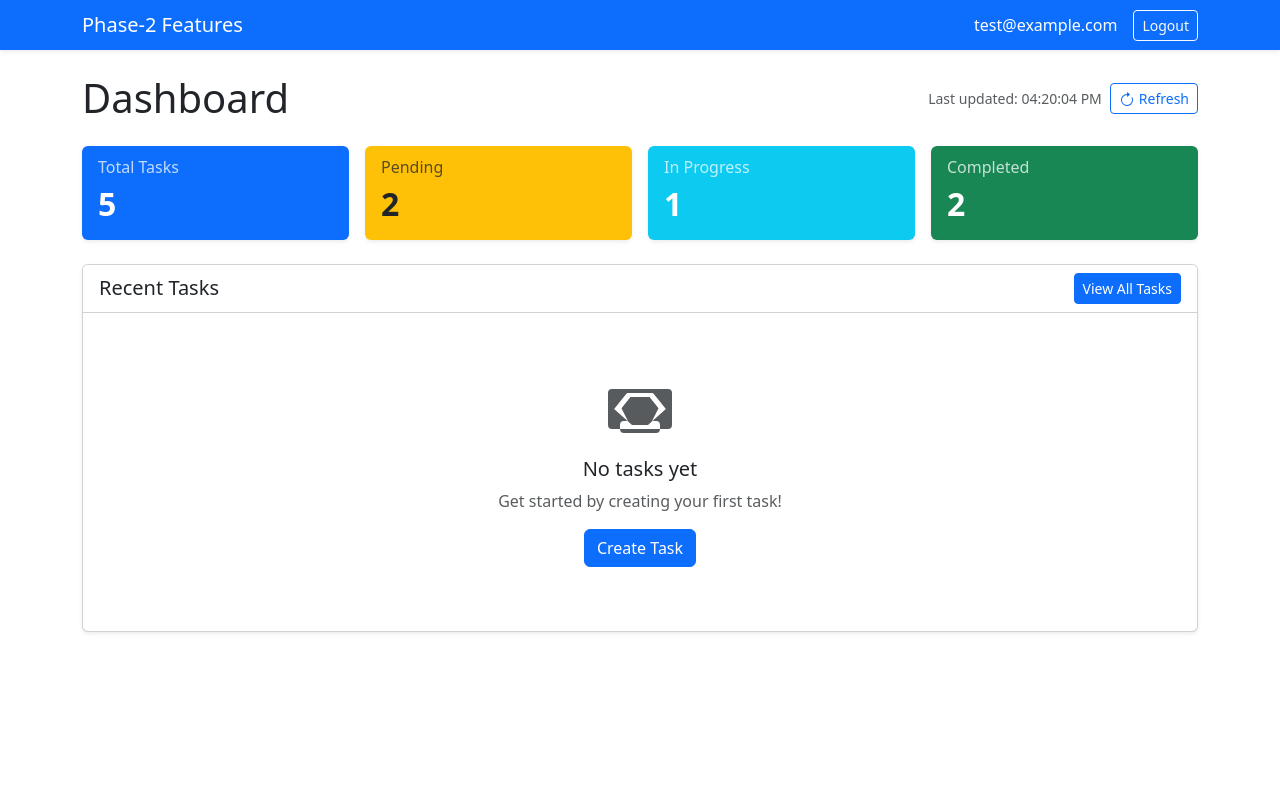
Test: DashboardPage › test_refresh_button - Shows refresh button and works correctly
The image size is (1280, 800).
Expected: the heading "Total Tasks" is shown, [98,158,179,177]
Note: Click refresh button
Click the button with test id "refresh-button" at (1154, 98), box [1110,82,1198,114]
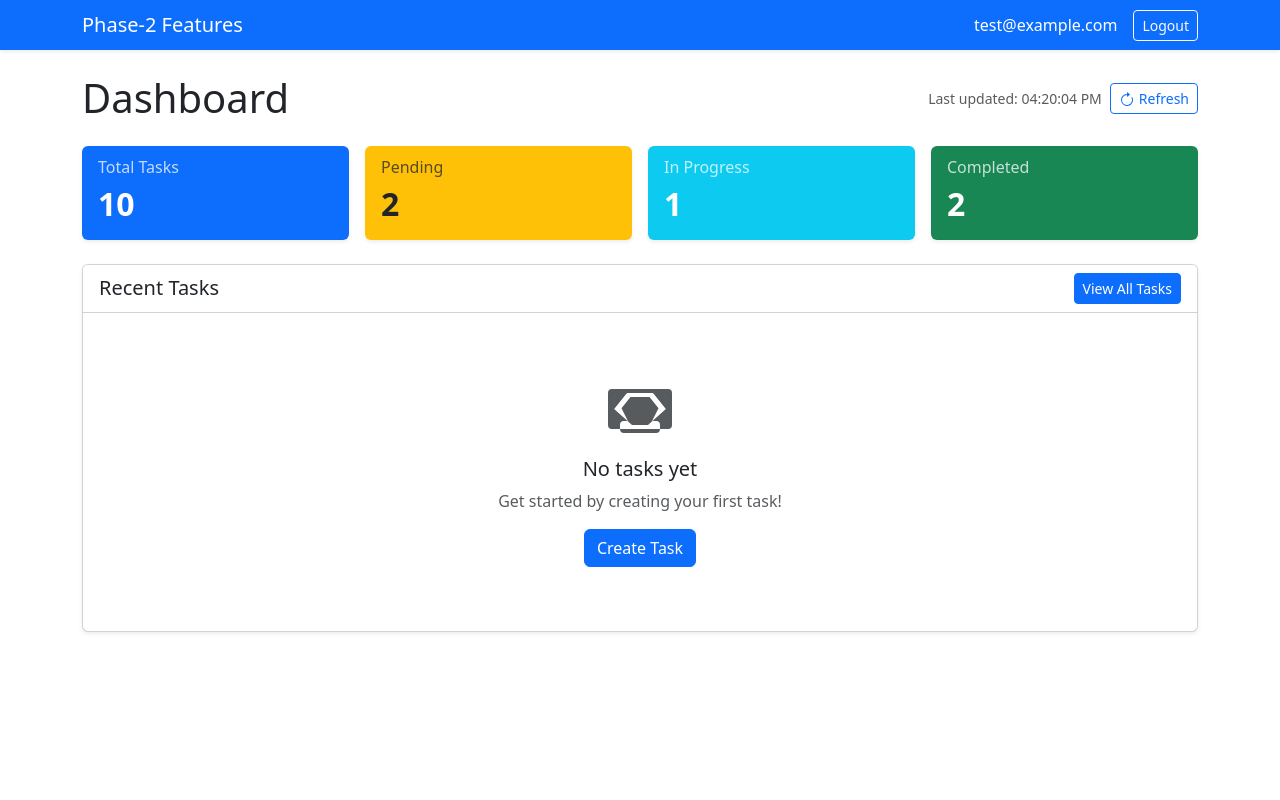
Now the heading "10" is shown, box [98,182,135,225]
